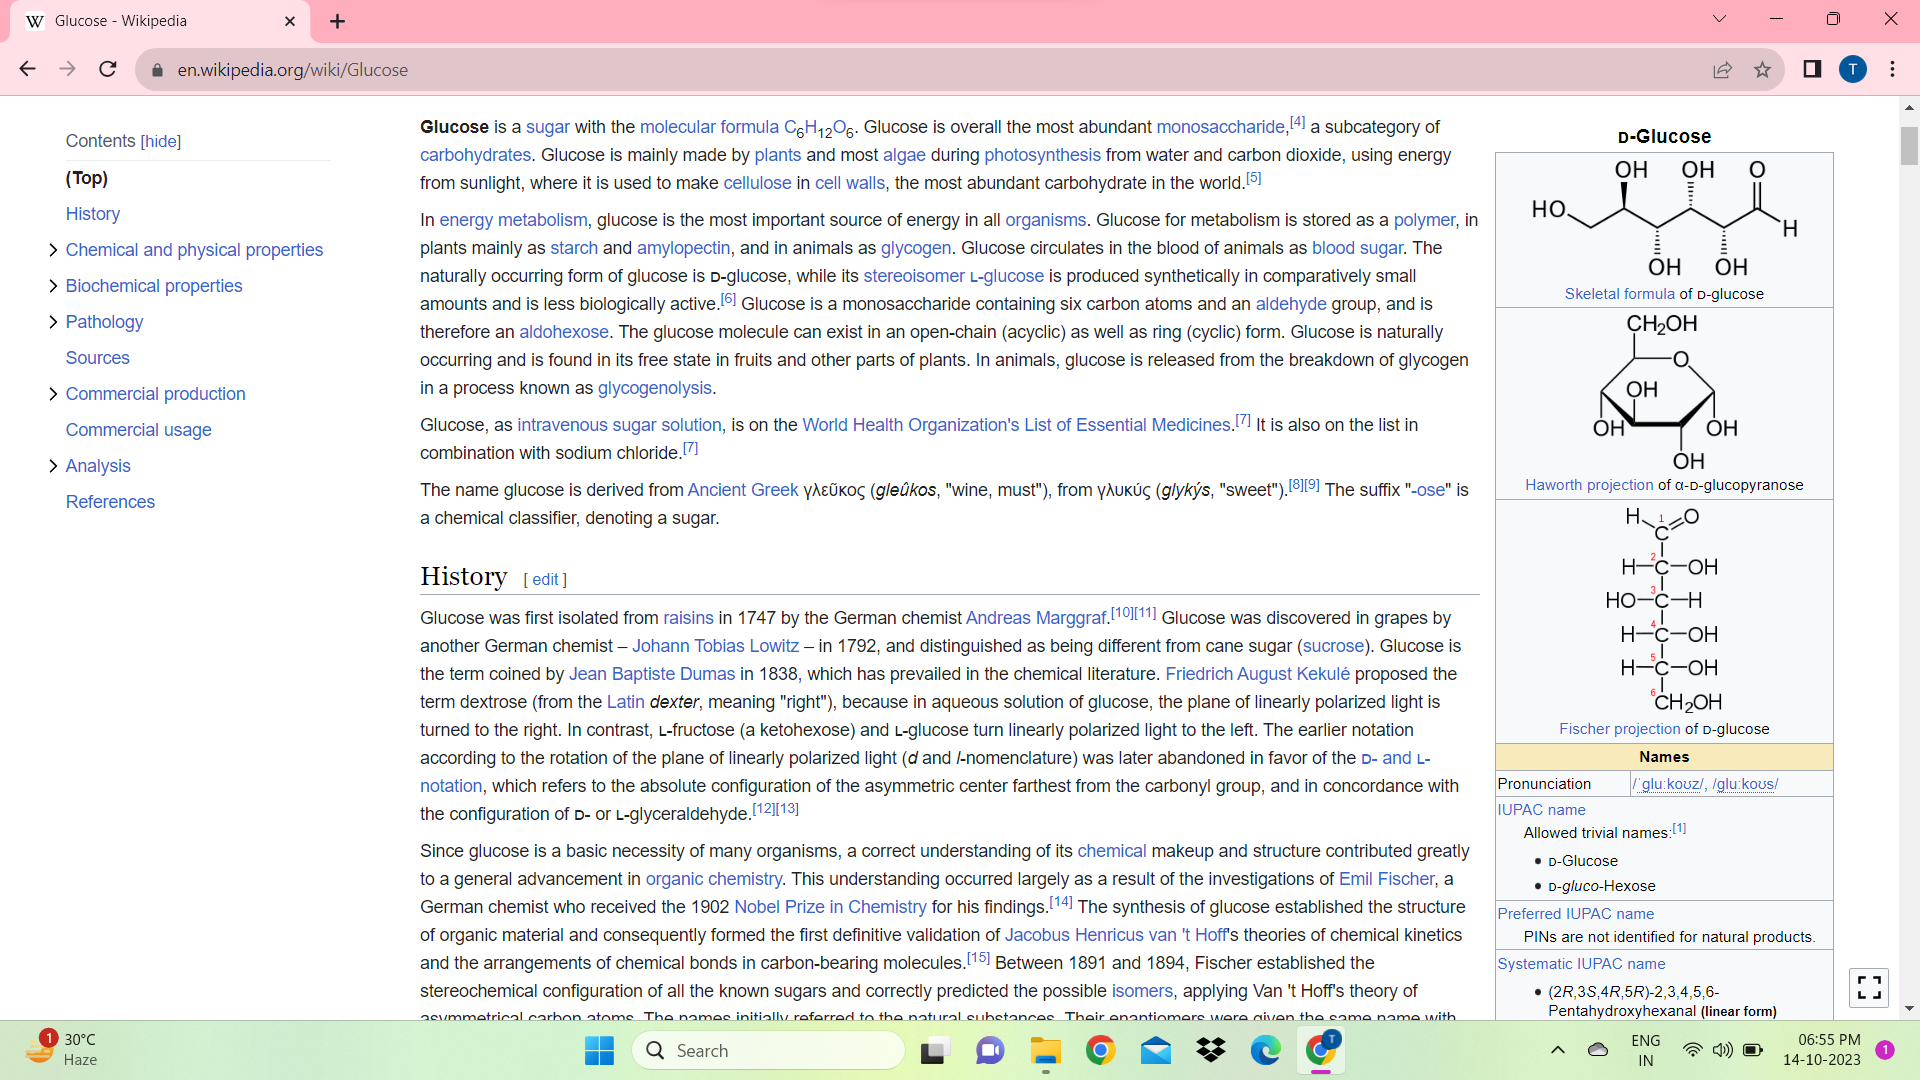Image: (1508, 500, 1810, 725), (1499, 140, 1862, 287), (1512, 306, 1808, 479)
Paragraph: (403, 608, 1495, 831), (408, 211, 1456, 406), (401, 841, 1497, 1023), (410, 414, 1491, 539), (403, 108, 1473, 201), (58, 229, 332, 270), (60, 386, 259, 412), (393, 559, 524, 589), (63, 306, 157, 339), (58, 455, 140, 481), (50, 168, 123, 190)
